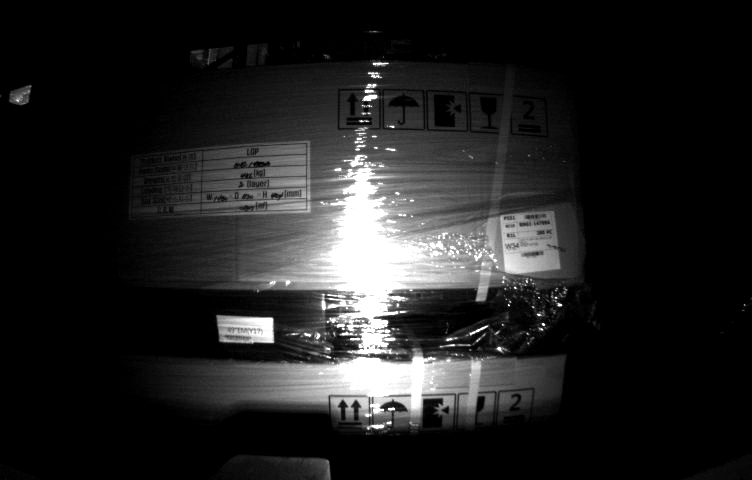True Barcode: (497, 207, 561, 276)
